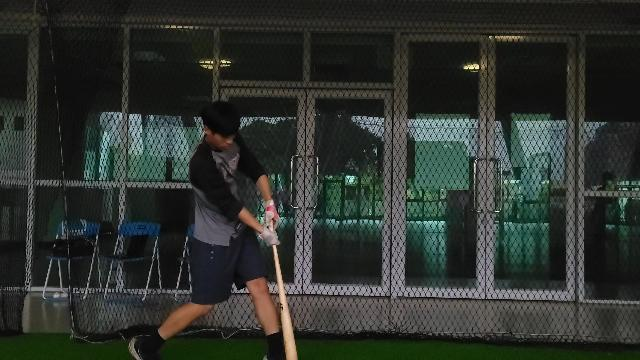bat: (272, 244, 312, 360)
